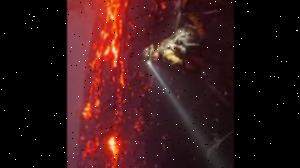fire: (70, 0, 138, 168)
